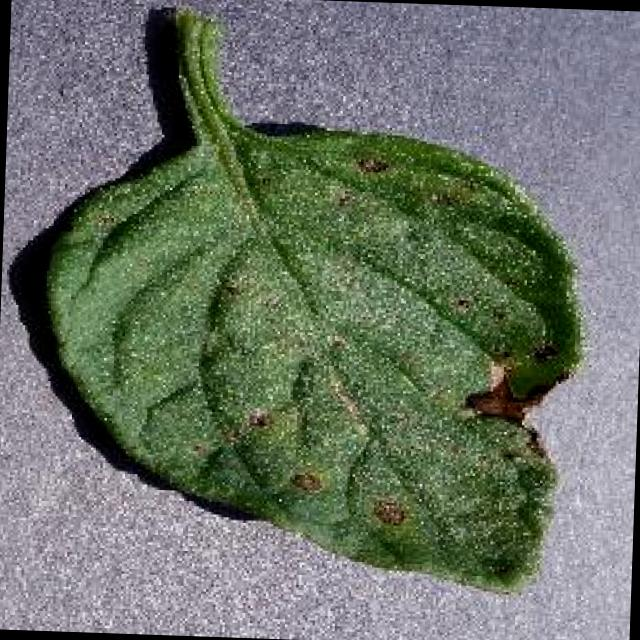leaf_spot: (48, 15, 578, 592)
